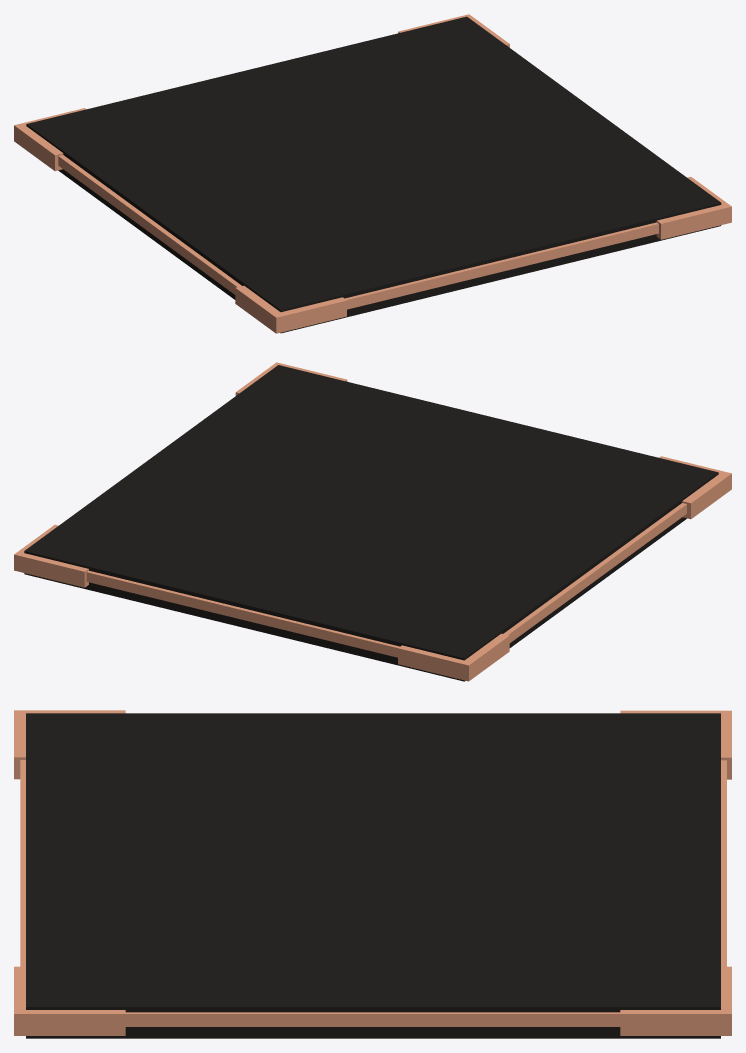
The model's file is chess-board.glb.
3 renders of one model, top to bottom at view 1: azimuth 30°, elevation 25°; view 2: azimuth 150°, elevation 25°; view 3: azimuth 270°, elevation 25°, orthographic. The views are drawn at different scales.
Parts seen in each view (by area): view 1: Cube, Cube.001, Cube.005, Cube.002, Cube.004; view 2: Cube, Cube.001, Cube.004, Cube.003, Cube.005; view 3: Cube, Cube.001, Cube.002, Cube.003, Cube.005, Cube.004.
Boxes of the visible parts, x1,y1,x2,y2 form: Cube: (26, 16, 721, 333); Cube.001: (58, 155, 658, 309); Cube.005: (235, 285, 346, 333); Cube.002: (656, 176, 731, 239); Cube.004: (14, 108, 85, 170); Cube: (24, 365, 718, 681); Cube.001: (86, 503, 686, 657); Cube.004: (398, 633, 509, 681); Cube.003: (14, 524, 88, 587); Cube.005: (659, 456, 731, 519); Cube: (26, 713, 720, 1038); Cube.001: (20, 760, 726, 1026); Cube.002: (14, 966, 125, 1035); Cube.003: (620, 966, 731, 1035); Cube.005: (14, 710, 125, 779); Cube.004: (620, 710, 731, 779).
Size of the model in its own units: 10.56 by 0.5149 by 10.54.
